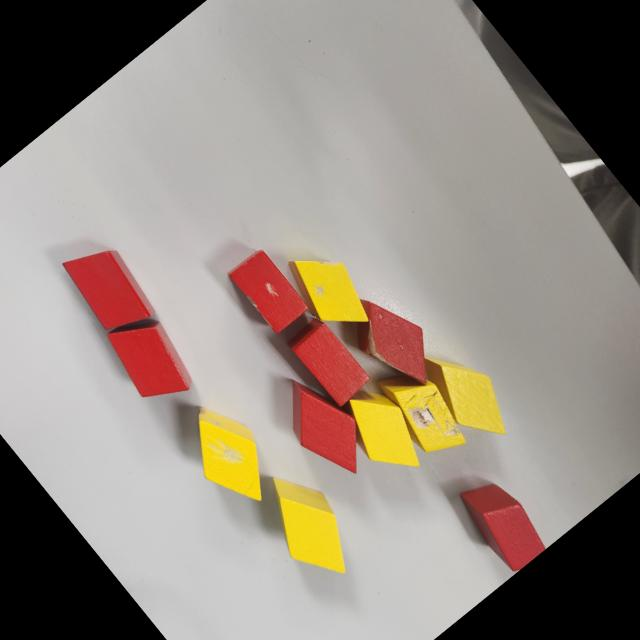broken: (168, 391, 290, 519), (335, 277, 453, 403), (278, 236, 382, 346), (372, 356, 476, 466), (226, 245, 313, 337)
red: (265, 363, 386, 492), (56, 230, 164, 346), (96, 302, 205, 415), (451, 467, 552, 575), (284, 312, 375, 410)
yellow: (245, 458, 372, 593), (410, 332, 524, 456), (330, 373, 438, 487)
